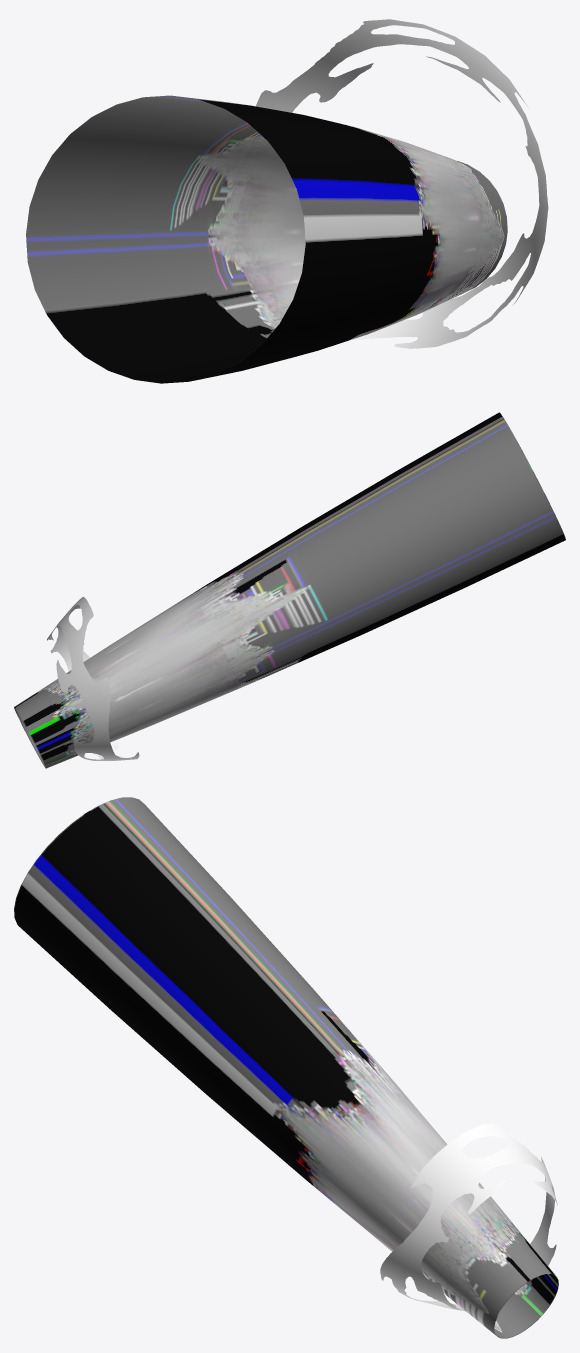
File: fx_cookie0030_snowking_skill01.fbx
3 renders of one model, top to bottom at view 1: azimuth 30°, elevation 25°; view 2: azimuth 150°, elevation 25°; view 3: azimuth 270°, elevation 25°, orthographic. The views are drawn at different scales.
Visible parts, largest first — view 1: Ground_Shockwave-Add2 (1), Ground_Shockwave-Add2 (2); view 2: Ground_Shockwave-Add2 (1), Ground_Shockwave-Add2 (2); view 3: Ground_Shockwave-Add2 (1), Ground_Shockwave-Add2 (2).
Boxes of the visible parts, x1,y1,x2,y2 form: Ground_Shockwave-Add2 (1): (26,95,507,383); Ground_Shockwave-Add2 (2): (256,19,548,348); Ground_Shockwave-Add2 (1): (14,412,565,768); Ground_Shockwave-Add2 (2): (47,597,139,760); Ground_Shockwave-Add2 (1): (14,797,558,1338); Ground_Shockwave-Add2 (2): (380,1123,557,1311).
Size of the model in its own units: 1445 by 1043 by 1453.
